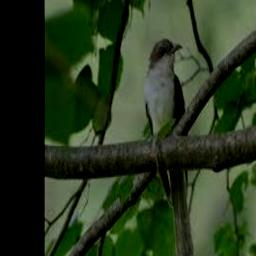Cuckoo: (144, 38, 193, 256)
